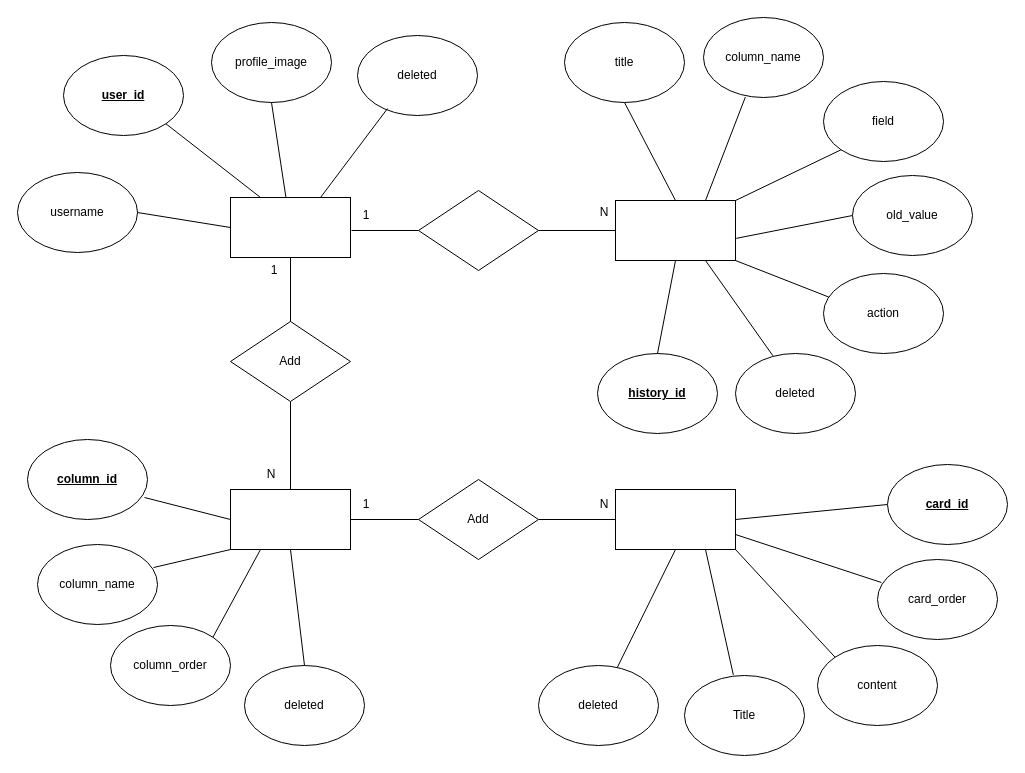
Image size: 1025x773. Some labels were removed from this diagram. The shapes that lost their labels are listed below. From the top down, each one's centre as x and y in pixels, then its label:
At pixel 290 227: "User".
At pixel 478 230: "Event".
At pixel 675 230: "History".
At pixel 290 519: "Column".
At pixel 675 519: "Card".
